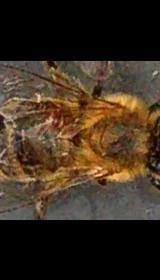varroa_mite: (44, 104, 70, 132)
